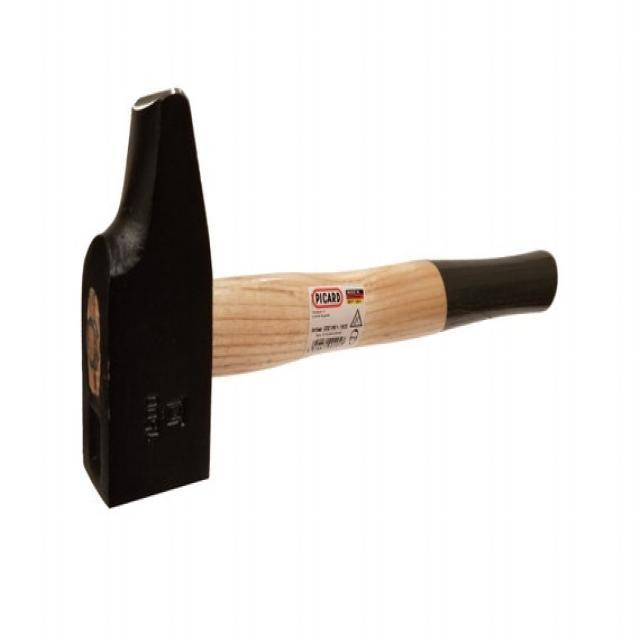hammer: (77, 80, 575, 515)
